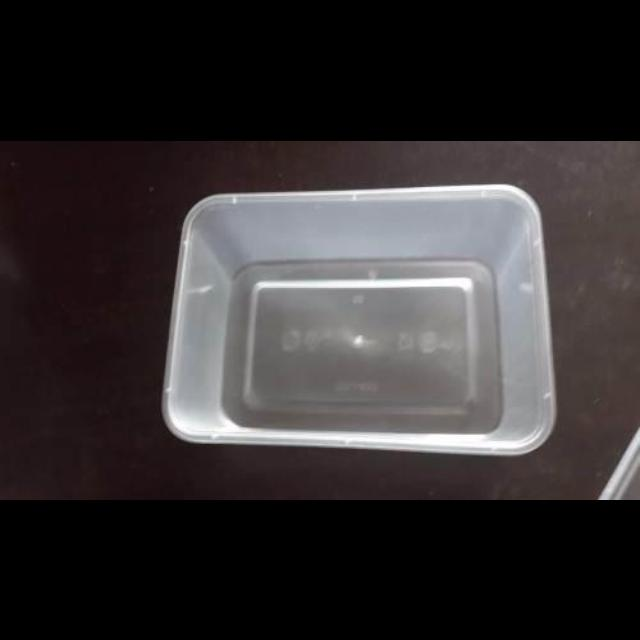plastic_box: (152, 180, 560, 458)
